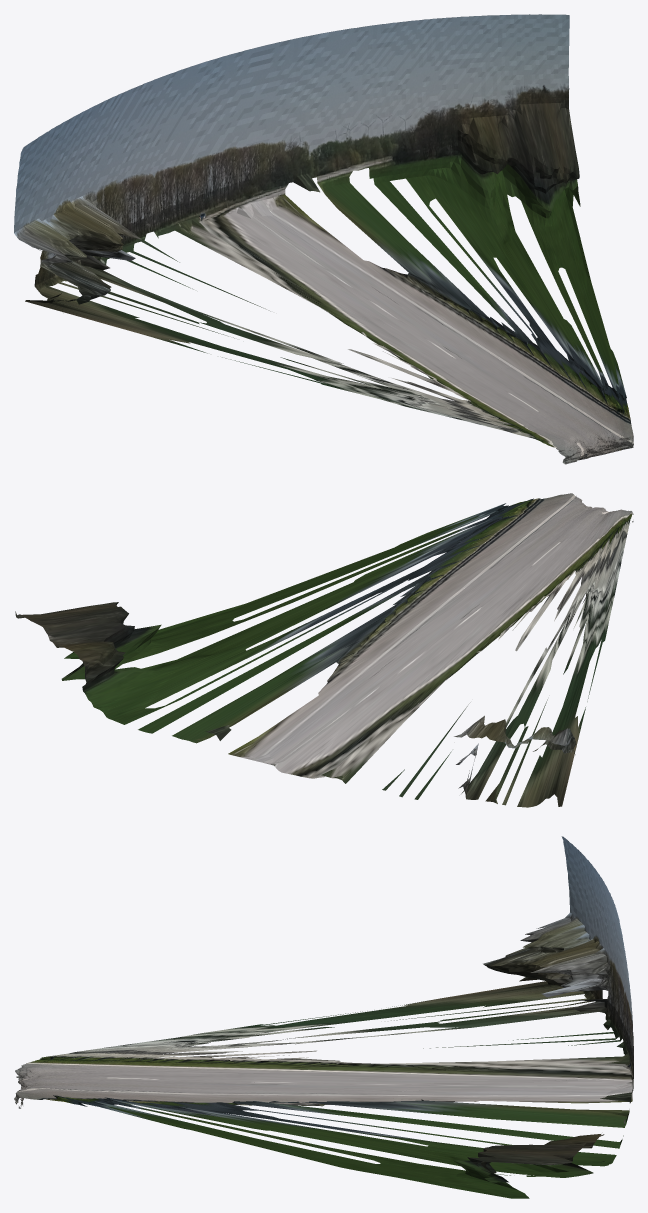
3 renders of one model, top to bottom at view 1: azimuth 30°, elevation 25°; view 2: azimuth 150°, elevation 25°; view 3: azimuth 270°, elevation 25°, orthographic. The views are drawn at different scales.
Parts seen in each view (by area): view 1: defaultobject; view 2: defaultobject; view 3: defaultobject.
Boxes of the visible parts, <box> form: defaultobject: <box>14,14,633,464</box>; defaultobject: <box>15,493,633,807</box>; defaultobject: <box>14,836,633,1198</box>.
Bounding box in the file's own units: 41.06 × 12.36 × 44.3.
1 material, 1 textured.
